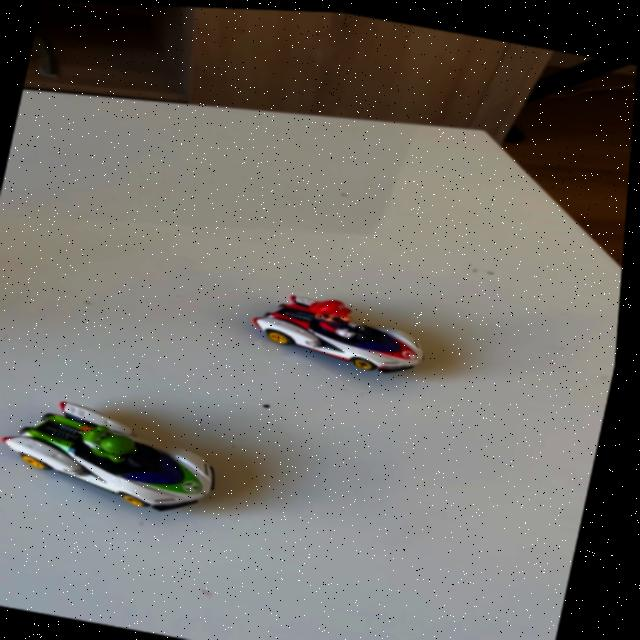mario: (229, 271, 463, 386)
yoshi: (0, 387, 259, 527)
